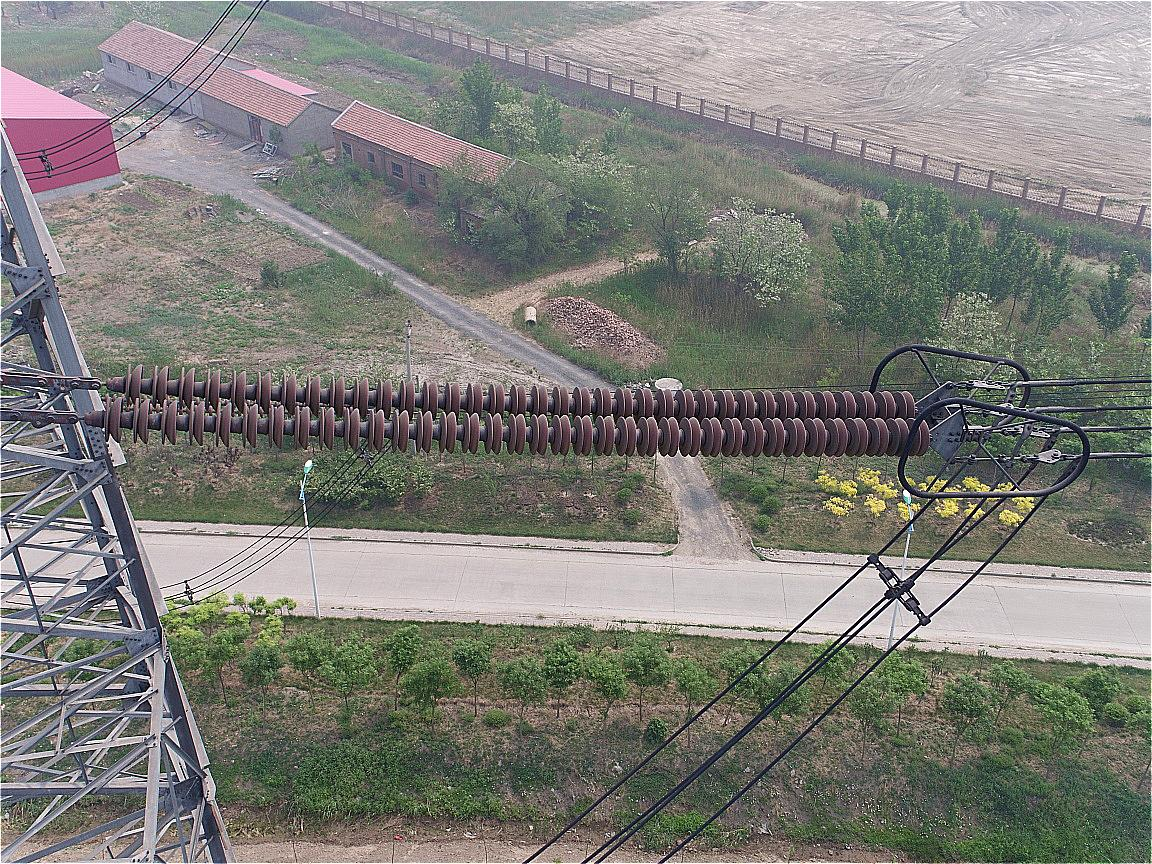insultor2: (100, 356, 931, 457)
